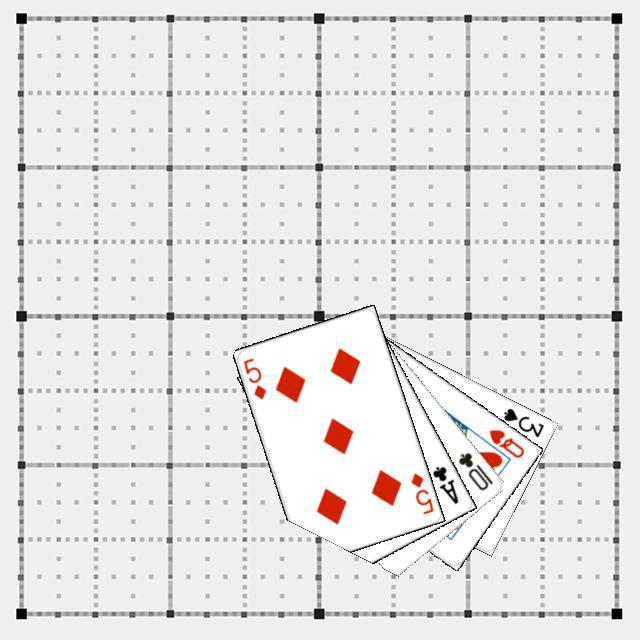10c: (453, 447, 495, 492)
3s: (498, 403, 546, 439)
5d: (238, 353, 268, 401), (406, 468, 435, 516)
Ac: (427, 461, 460, 506)
Qh: (484, 424, 526, 460)
